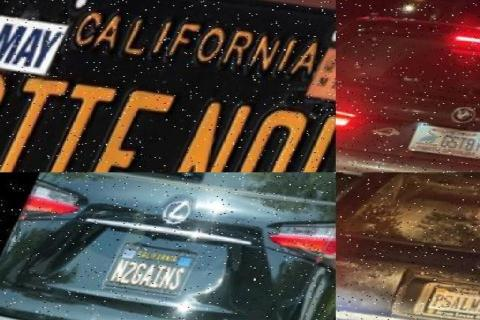LicensePlate: (0, 56, 336, 172), (105, 238, 208, 302), (409, 125, 478, 160), (425, 285, 478, 319)
